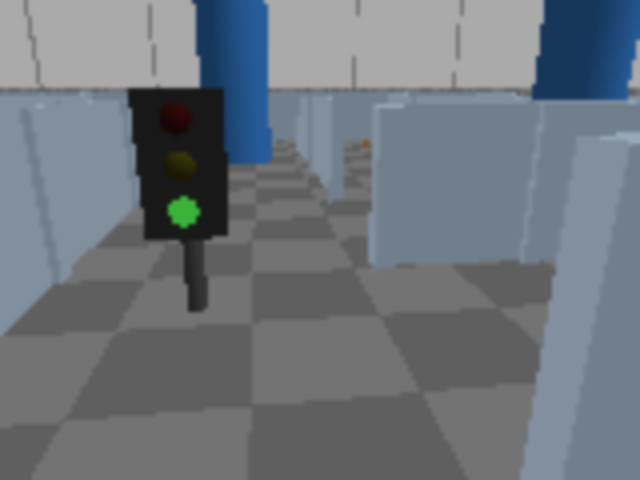traffic_light: (126, 74, 235, 326)
